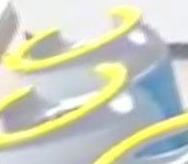cylinder: (1, 1, 188, 164)
